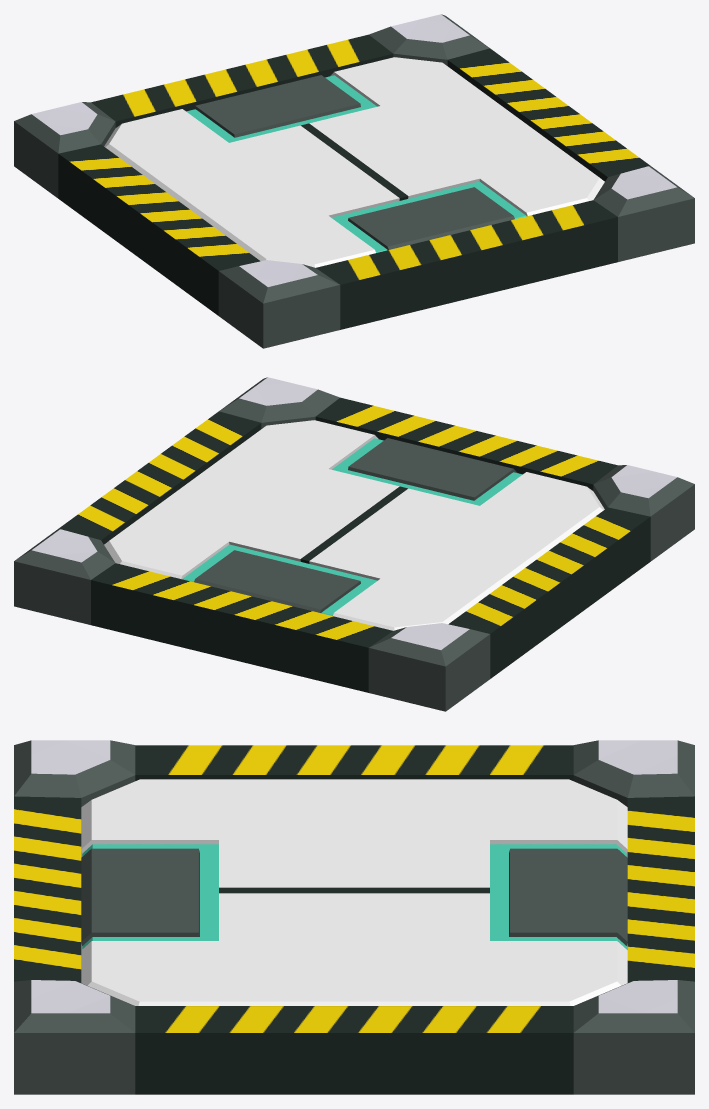
The model's file is Boss Area.fbx.
3 renders of one model, top to bottom at view 1: azimuth 30°, elevation 25°; view 2: azimuth 150°, elevation 25°; view 3: azimuth 270°, elevation 25°, orthographic. The views are drawn at different scales.
Parts seen in each view (by area): view 1: TrapBossArea, TrapBossArea.001; view 2: TrapBossArea, TrapBossArea.001; view 3: TrapBossArea.001, TrapBossArea.
Boxes of the visible parts, <box> form: TrapBossArea: <box>14,14,694,348</box>; TrapBossArea.001: <box>104,57,604,267</box>; TrapBossArea: <box>14,377,694,711</box>; TrapBossArea.001: <box>104,420,604,630</box>; TrapBossArea.001: <box>81,779,627,1005</box>; TrapBossArea: <box>14,740,694,1094</box>.
Size of the model in its own units: 200 by 23.97 by 200.
